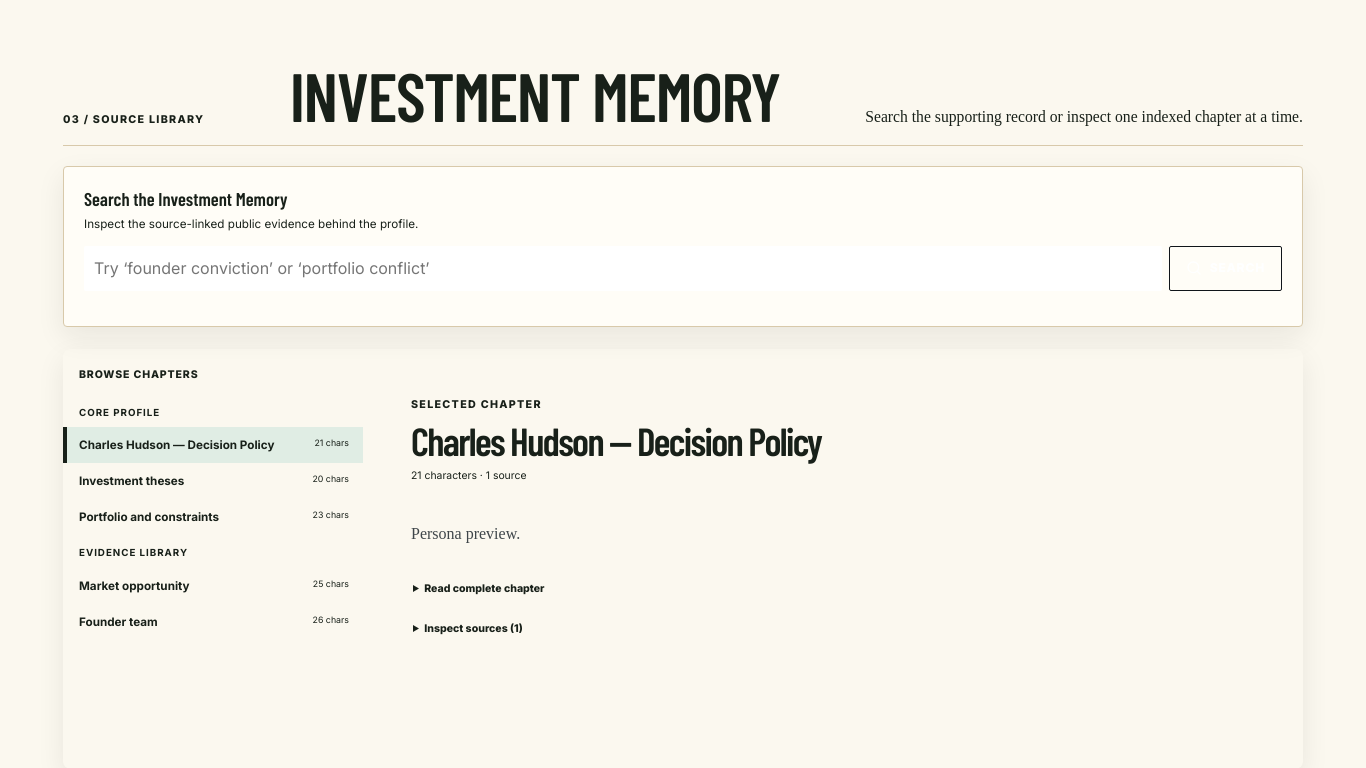
Test: InvestmentMemoryLibrary › keeps complete bodies and source paths behind named disclosures
Expected: the text "Complete persona body." is not shown
Expected: the text "wiki/persona.md" is not shown
Click the heading "Read complete chapter": (484,589) [424,582,544,595]
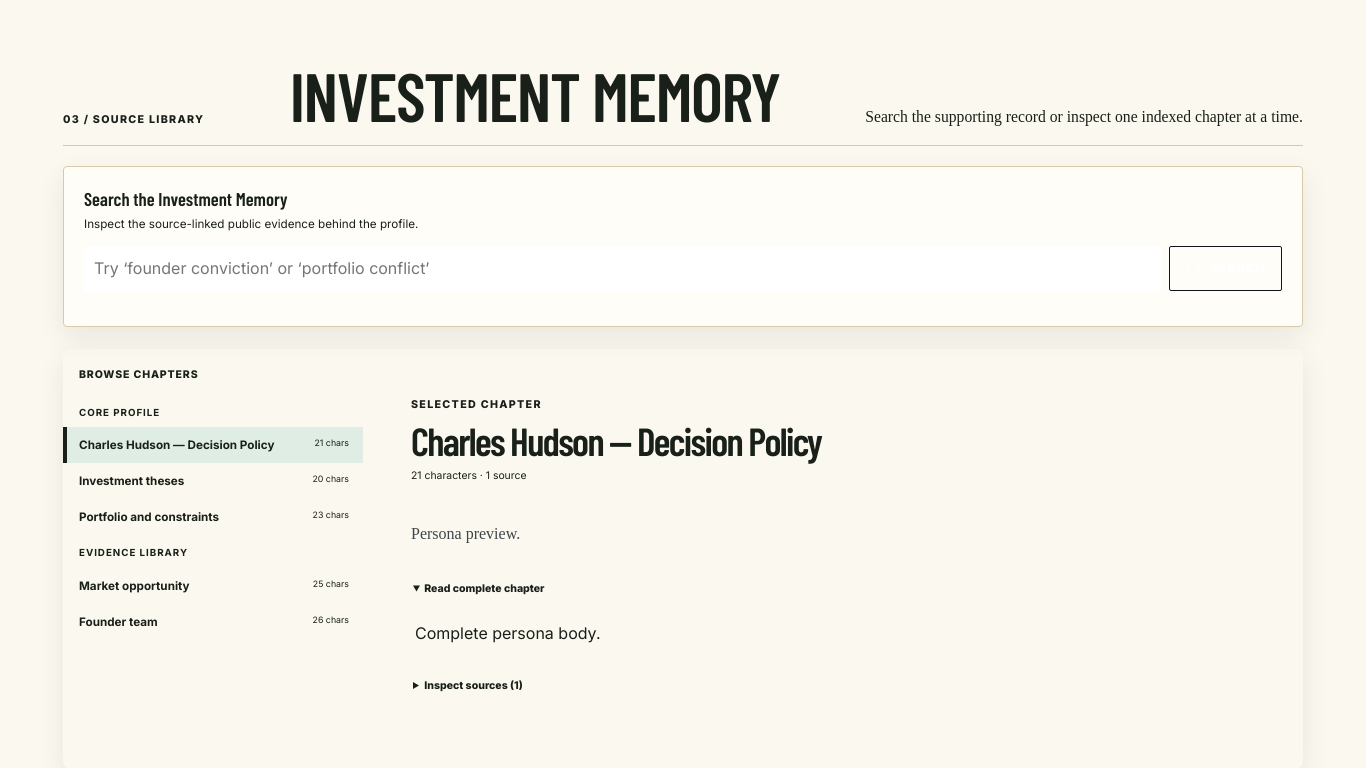
Expected: the text "Complete persona body." is shown, [415,624,600,644]
Click the heading "Inspect sources (1)": (473,686) [424,679,523,692]
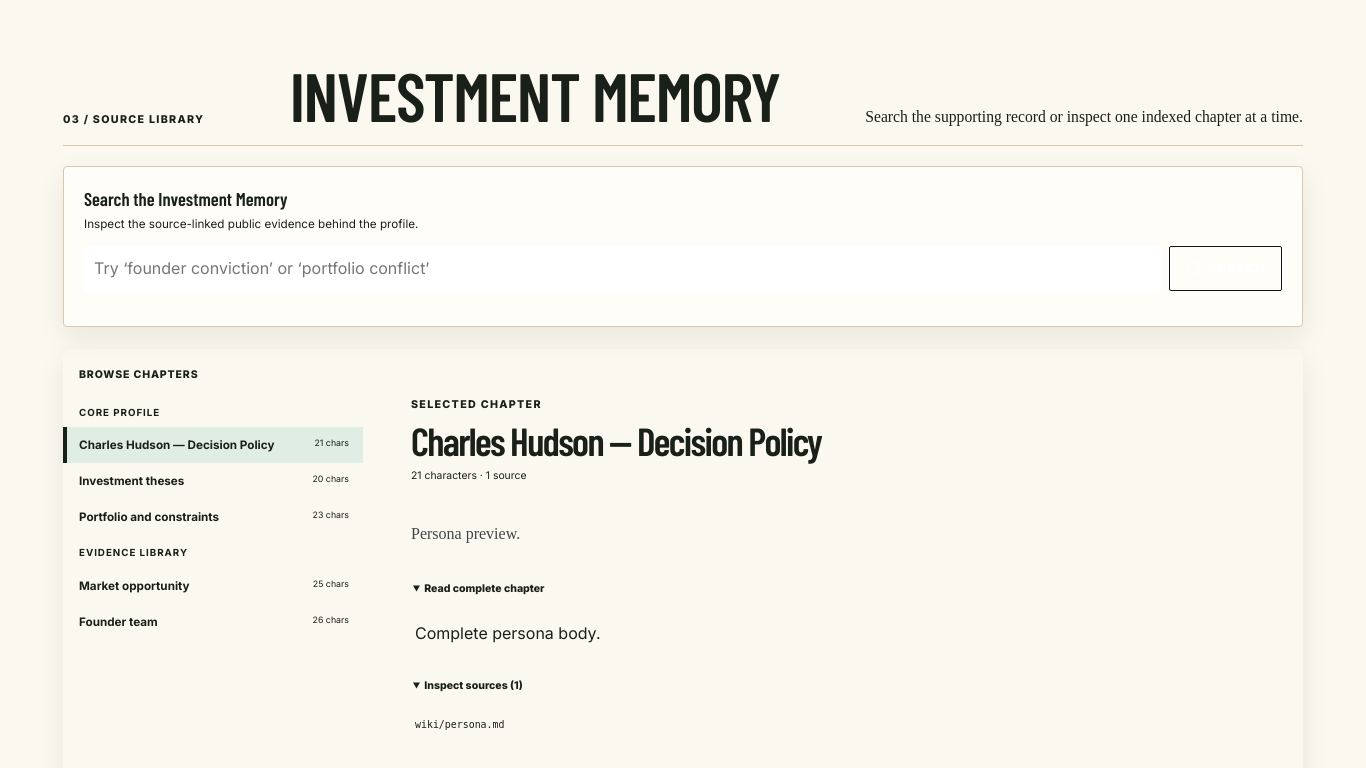
Expected: the text "wiki/persona.md" is shown, [415,719,504,730]
